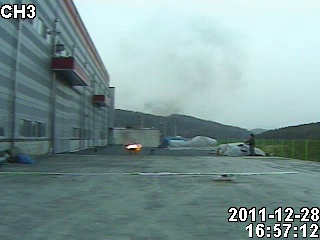fire: (124, 138, 146, 150)
